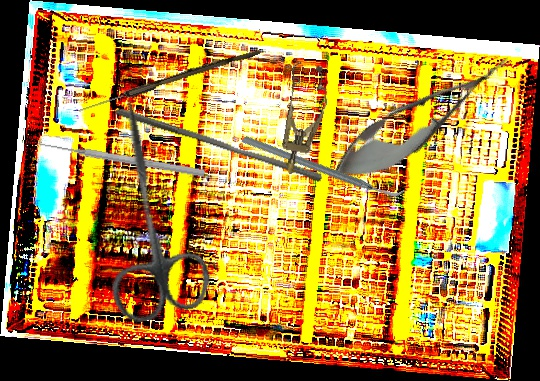Chopper: (240, 84, 407, 248)
Iris Scissors: (76, 89, 217, 327)
Micro Scissor: (318, 36, 525, 201)
Pusher: (110, 106, 327, 183), (38, 138, 206, 179)
Speculum: (268, 59, 335, 179)
Surgical Spoon: (77, 45, 261, 116)
